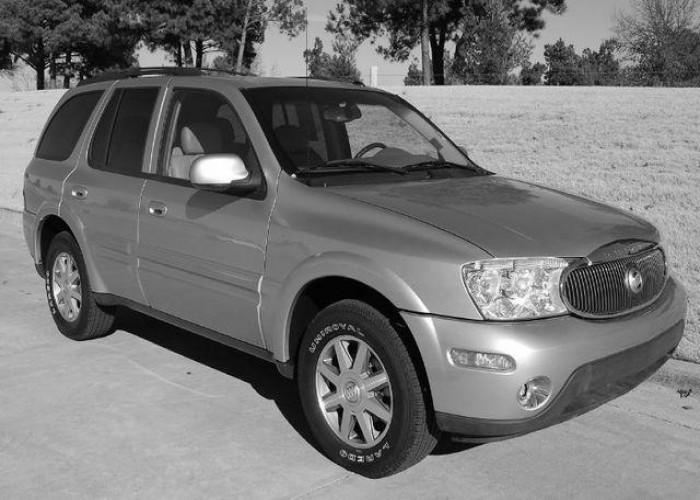car: (21, 69, 690, 480)
